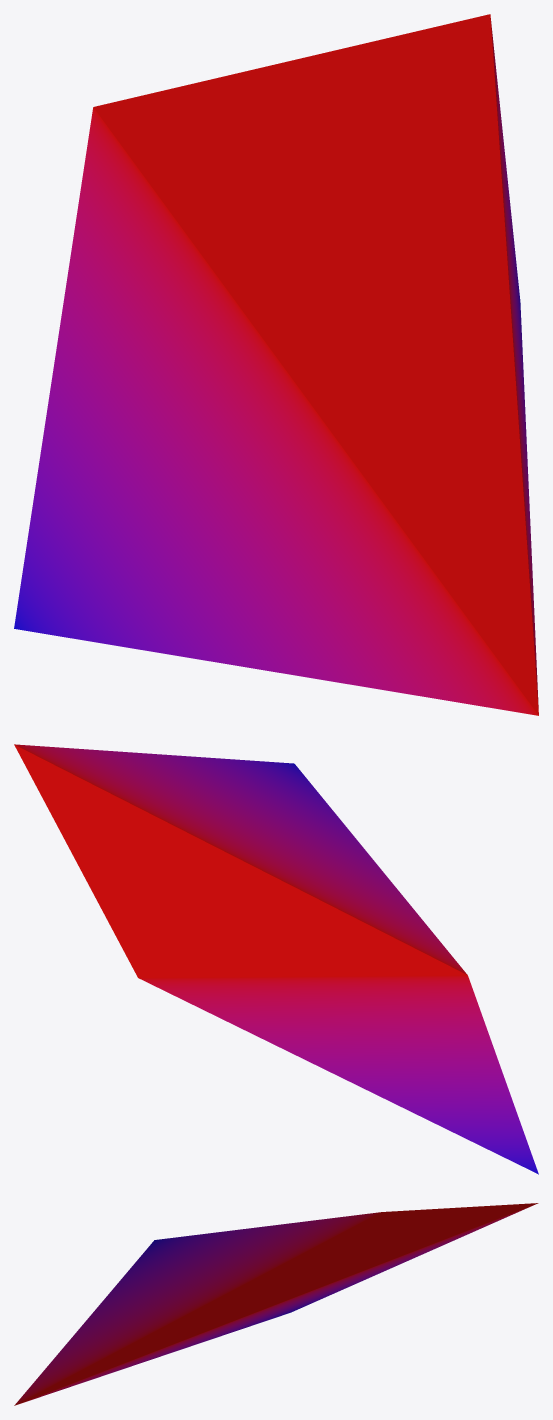
Rendered from border_patch_17.obj.
3 views of the same model, one above another, from view 1: azimuth 30°, elevation 25°; view 2: azimuth 150°, elevation 25°; view 3: azimuth 270°, elevation 25° (orthographic). The views are drawn at different scales.
Size of the model in its own units: 0.9272 by 0.691 by 1.22.
